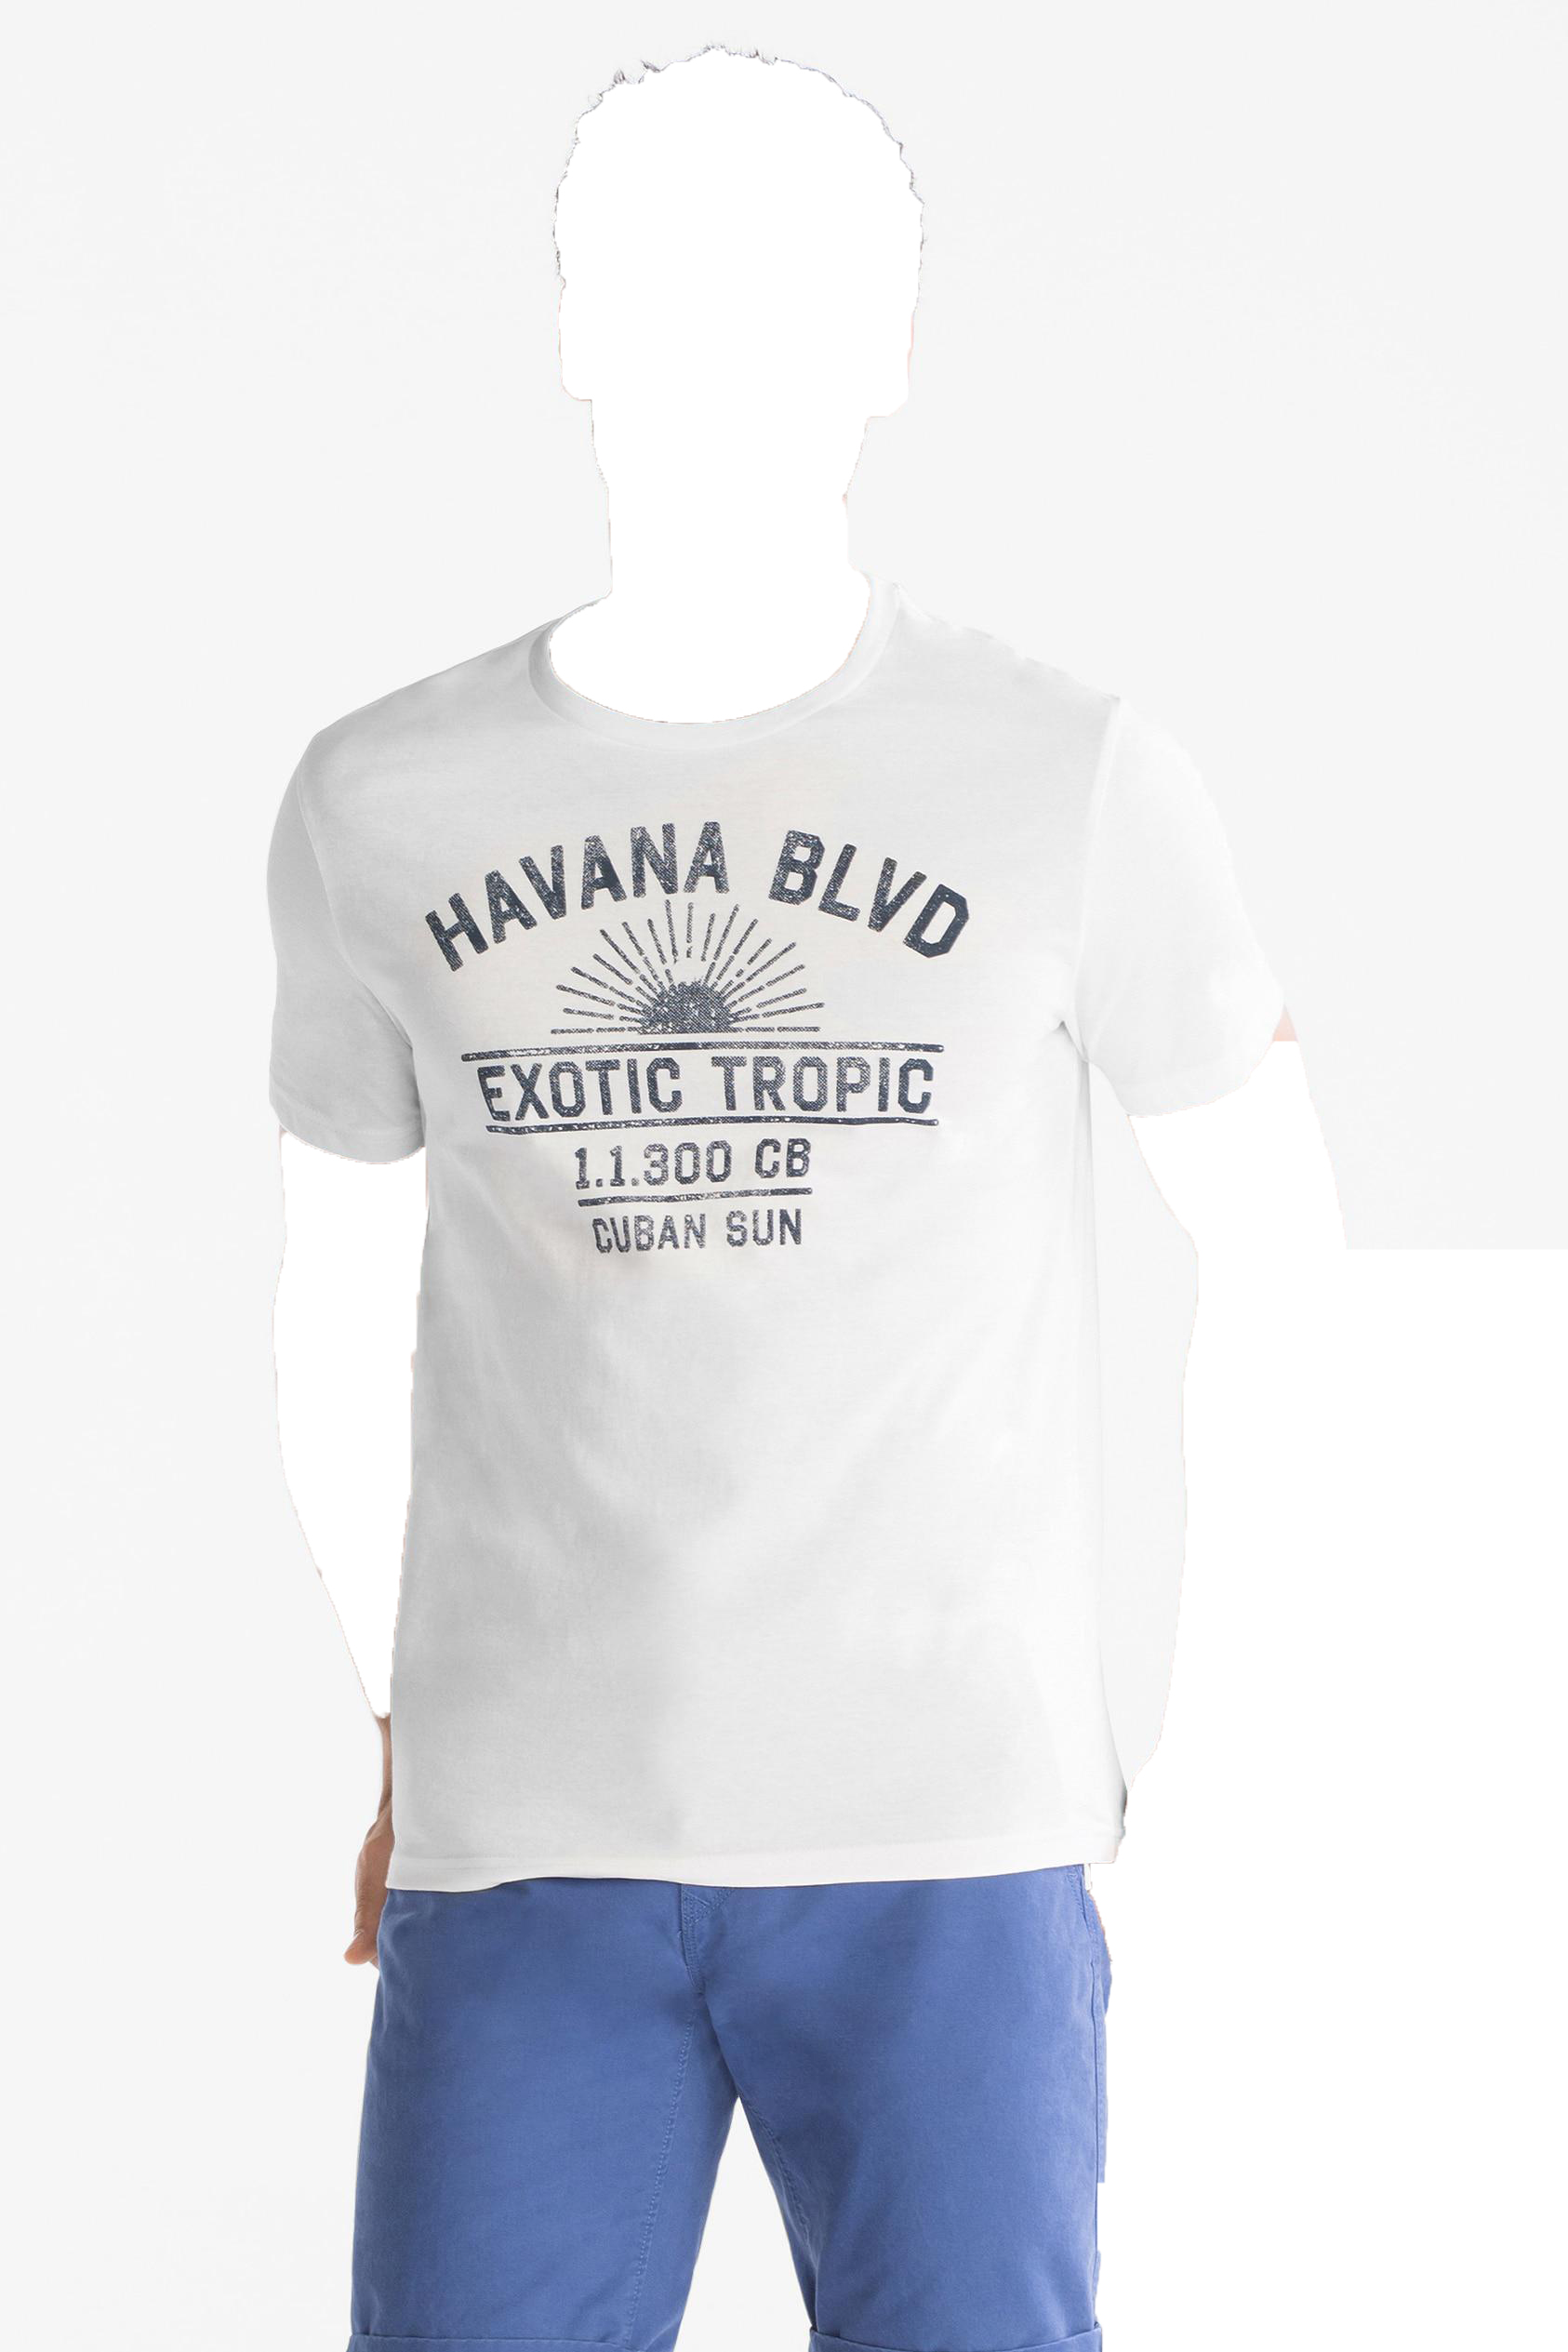teeshirt: (255, 597, 1276, 1909)
